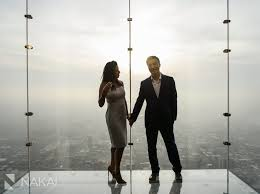Bad: (98, 55, 183, 183)
